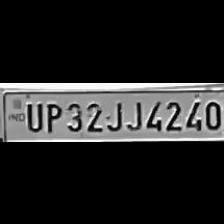0: (202, 97, 222, 129)
2: (84, 98, 103, 132), (162, 97, 180, 131)
3: (62, 98, 82, 132)
4: (182, 96, 202, 130), (144, 96, 162, 130)
J: (104, 97, 124, 131), (123, 96, 141, 130)
P: (43, 98, 61, 132)
U: (22, 99, 42, 131)
